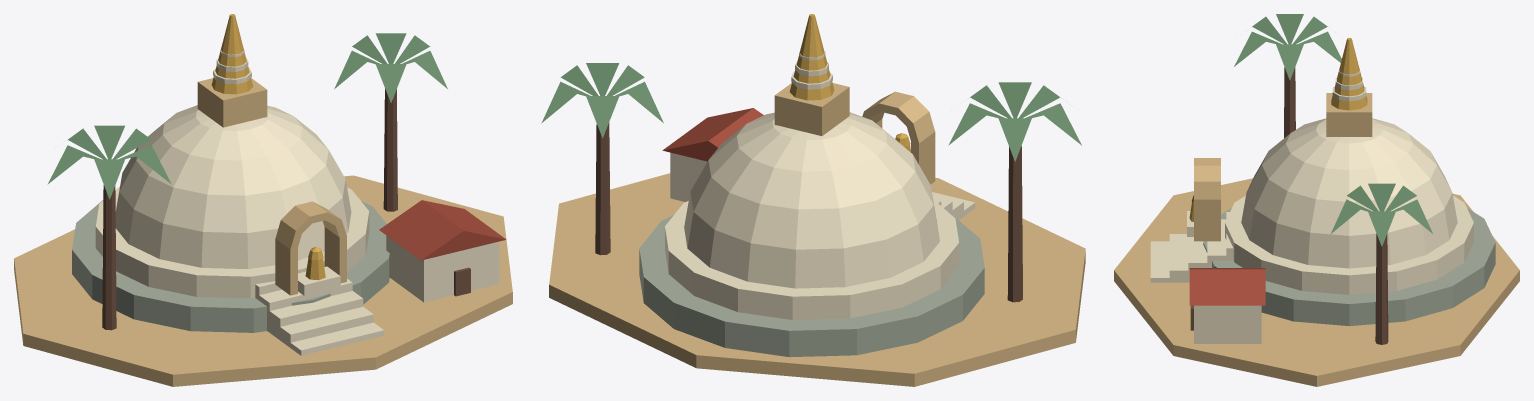
The model's file is simhala.glb.
The picture shows the model from 3 angles, left to right: view 1: azimuth 30°, elevation 25°; view 2: azimuth 150°, elevation 25°; view 3: azimuth 270°, elevation 25°; orthographic projection. The views are drawn at different scales.
Visible parts, largest first — view 1: simhala_cream, simhala_sandstone, simhala_stone, simhala_foliage, simhala_roof_red, simhala_dark_wood, simhala_gold; view 2: simhala_cream, simhala_sandstone, simhala_stone, simhala_foliage, simhala_dark_wood, simhala_roof_red, simhala_gold; view 3: simhala_cream, simhala_sandstone, simhala_stone, simhala_foliage, simhala_roof_red, simhala_dark_wood, simhala_gold.
Part boxes in pixels (<box>): simhala_cream: <box>95,49,499,355</box>; simhala_sandstone: <box>14,78,512,386</box>; simhala_stone: <box>72,200,389,332</box>; simhala_foliage: <box>47,33,447,199</box>; simhala_roof_red: <box>379,200,506,260</box>; simhala_dark_wood: <box>102,88,470,330</box>; simhala_gold: <box>211,14,325,280</box>; simhala_cream: <box>665,51,975,319</box>; simhala_sandstone: <box>549,83,1085,386</box>; simhala_stone: <box>639,212,984,357</box>; simhala_foliage: <box>541,63,1081,161</box>; simhala_dark_wood: <box>595,122,1022,302</box>; simhala_roof_red: <box>662,108,763,161</box>; simhala_gold: <box>789,14,910,152</box>; simhala_cream: <box>1150,68,1473,343</box>; simhala_sandstone: <box>1114,93,1519,386</box>; simhala_stone: <box>1203,208,1495,326</box>; simhala_foliage: <box>1234,14,1432,246</box>; simhala_roof_red: <box>1189,268,1265,305</box>; simhala_dark_wood: <box>1190,67,1388,344</box>; simhala_gold: <box>1189,38,1367,221</box>.
Size of the model in its own units: 2.1 by 1.1 by 1.7.
